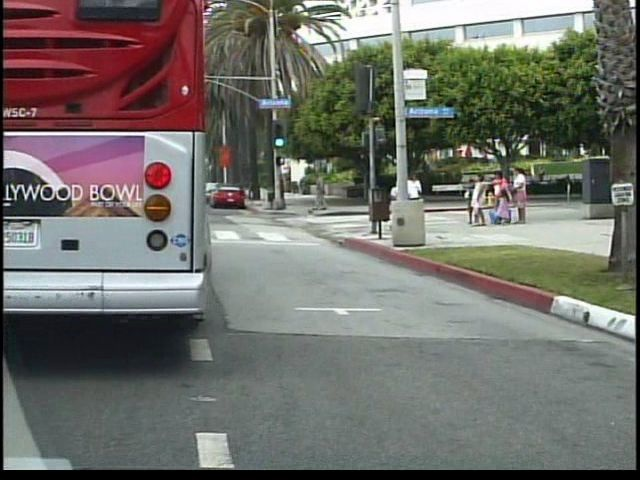person: (391, 162, 417, 240), (407, 169, 430, 231), (313, 169, 335, 215)
